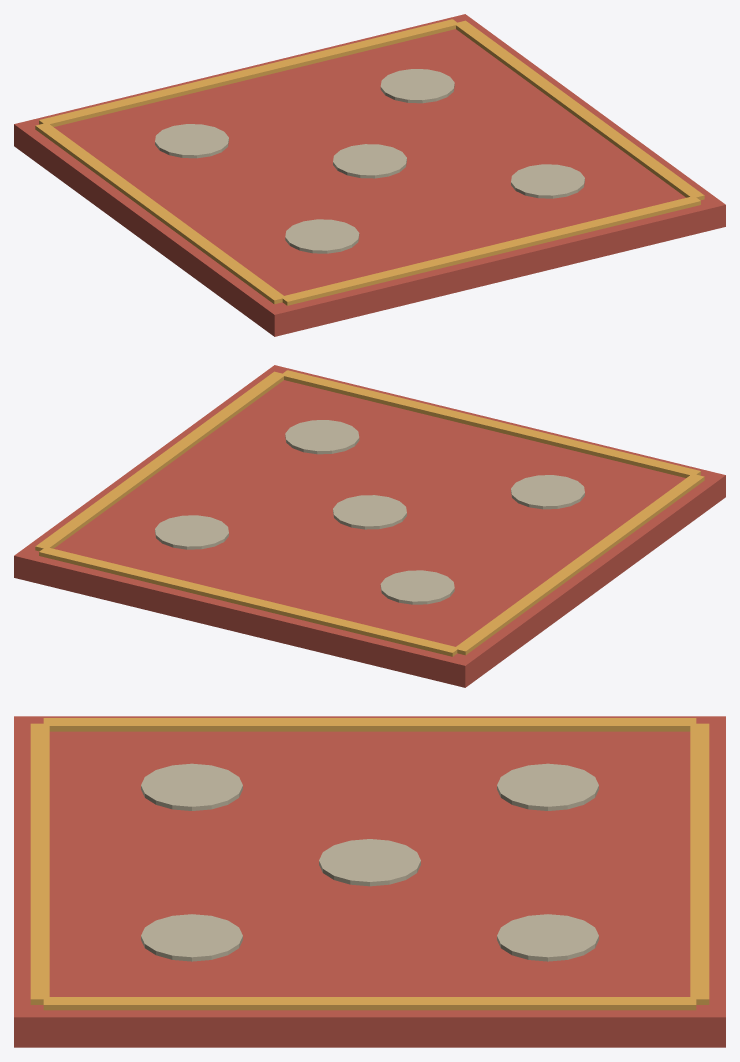
File: space_die_coral_face_5.glb
The picture shows the model from 3 angles, top to bottom: view 1: azimuth 30°, elevation 25°; view 2: azimuth 150°, elevation 25°; view 3: azimuth 270°, elevation 25°; orthographic projection. The views are drawn at different scales.
Parts seen in each view (by area): view 1: FixedDetails, BrassTrim; view 2: FixedDetails, BrassTrim; view 3: FixedDetails, BrassTrim.
Part boxes in pixels (x1,y1,x2,y2): FixedDetails: (14, 14, 725, 336); BrassTrim: (35, 19, 704, 305); FixedDetails: (14, 365, 725, 687); BrassTrim: (35, 370, 704, 656); FixedDetails: (14, 716, 725, 1047); BrassTrim: (30, 718, 709, 1010).
Size of the model in its own units: 0.6 by 0.034 by 0.6.
